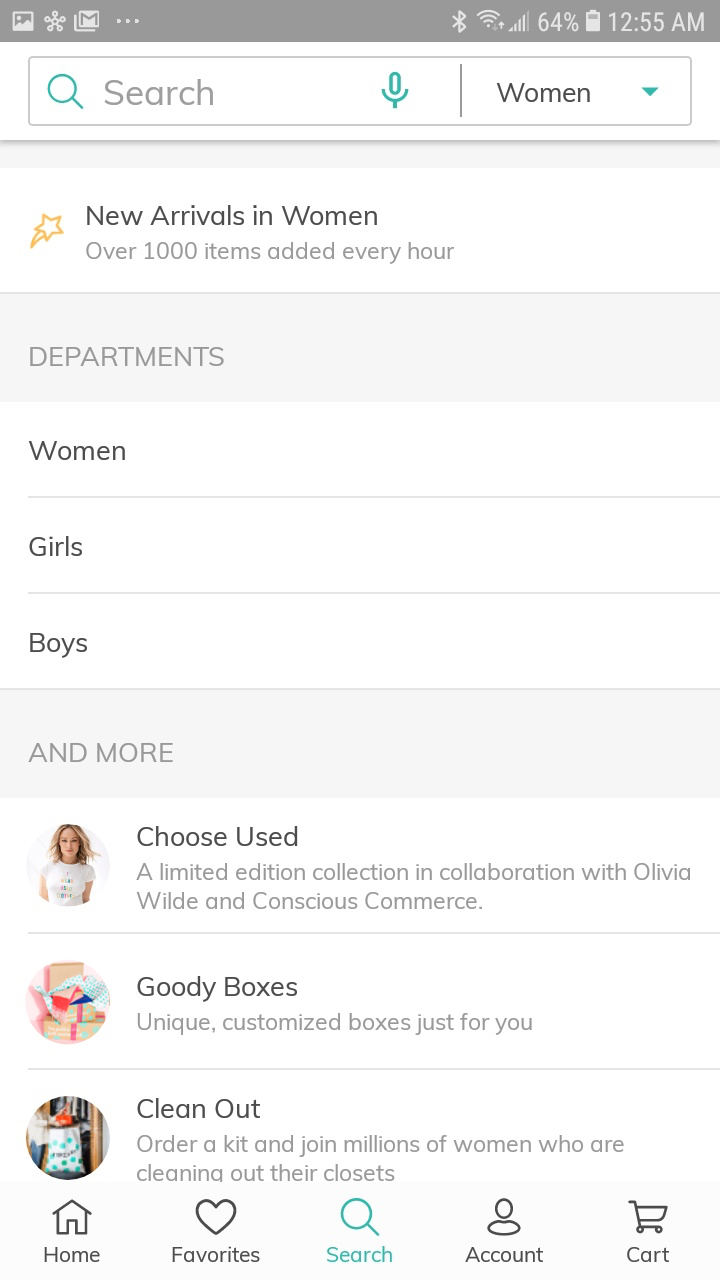EditText: (28, 57, 692, 127)
Icon: (340, 1197, 380, 1237), (196, 1198, 238, 1236), (52, 1198, 93, 1236), (486, 1197, 522, 1237), (628, 1200, 669, 1234), (48, 74, 85, 110), (381, 72, 409, 110), (641, 87, 660, 97)
Image: (26, 1095, 111, 1180), (26, 960, 111, 1045), (27, 824, 111, 907), (30, 214, 65, 250)
Text: (136, 863, 691, 910), (137, 1134, 625, 1183), (137, 1012, 533, 1036), (86, 242, 455, 265), (87, 205, 378, 226), (137, 976, 298, 1003), (30, 347, 225, 368), (137, 826, 299, 847), (105, 79, 214, 106), (28, 743, 174, 763), (137, 1097, 262, 1119), (29, 441, 126, 461), (497, 83, 591, 103), (172, 1245, 261, 1263), (30, 633, 89, 659), (465, 1246, 544, 1263), (327, 1245, 393, 1263), (29, 536, 83, 557), (44, 1246, 101, 1263), (626, 1246, 670, 1263)
UpperTaskBar: (1, 1, 720, 43)
